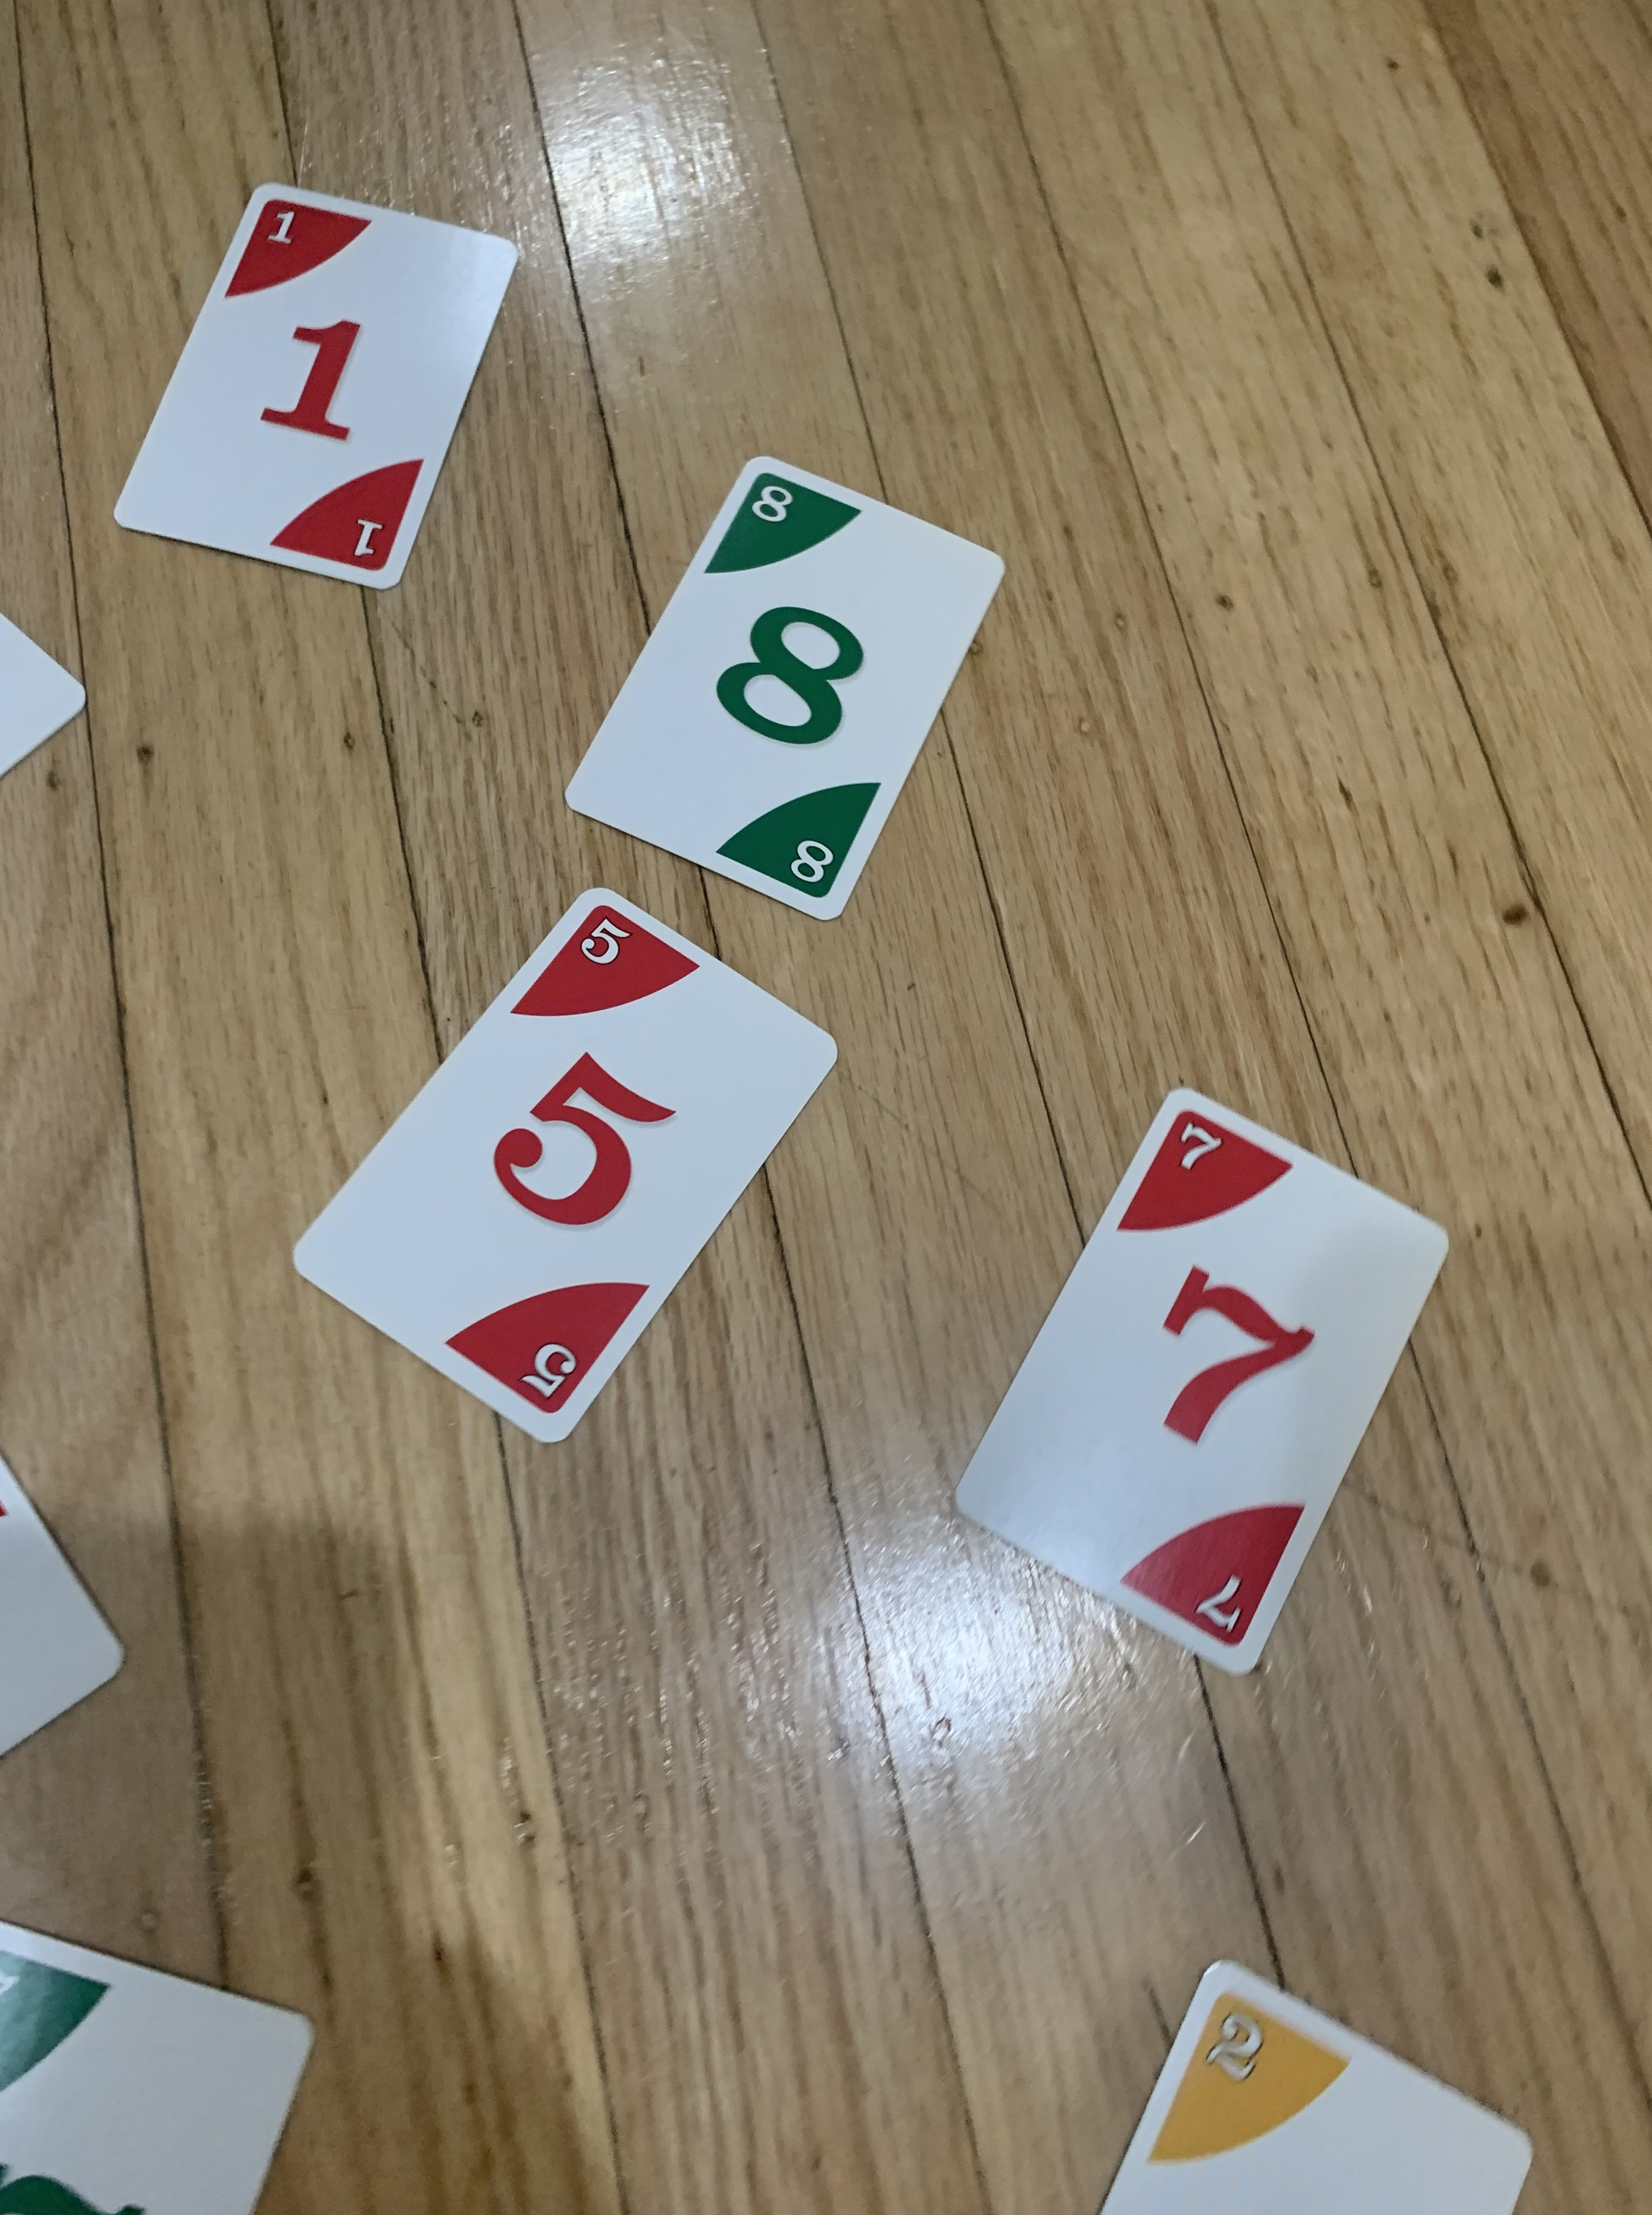eight: (559, 448, 1015, 939)
five: (285, 882, 849, 1446)
one: (104, 170, 526, 599)
seven: (946, 1076, 1459, 1680)
